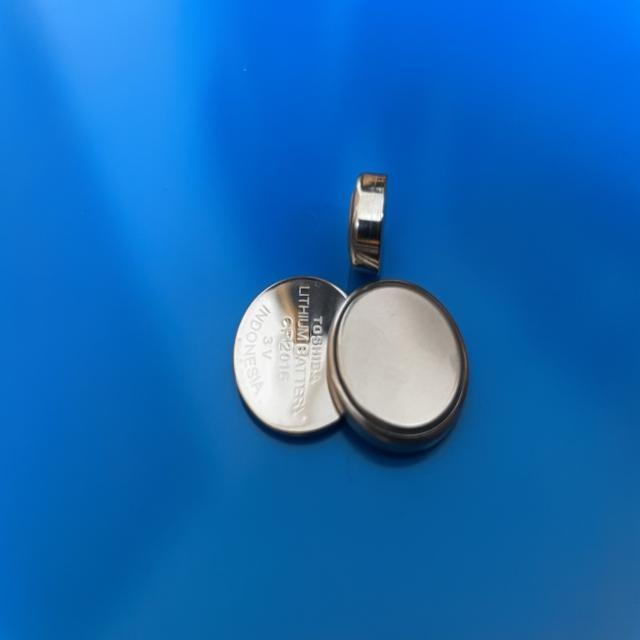COIN: (324, 273, 470, 457), (229, 274, 356, 440), (344, 168, 392, 282)
